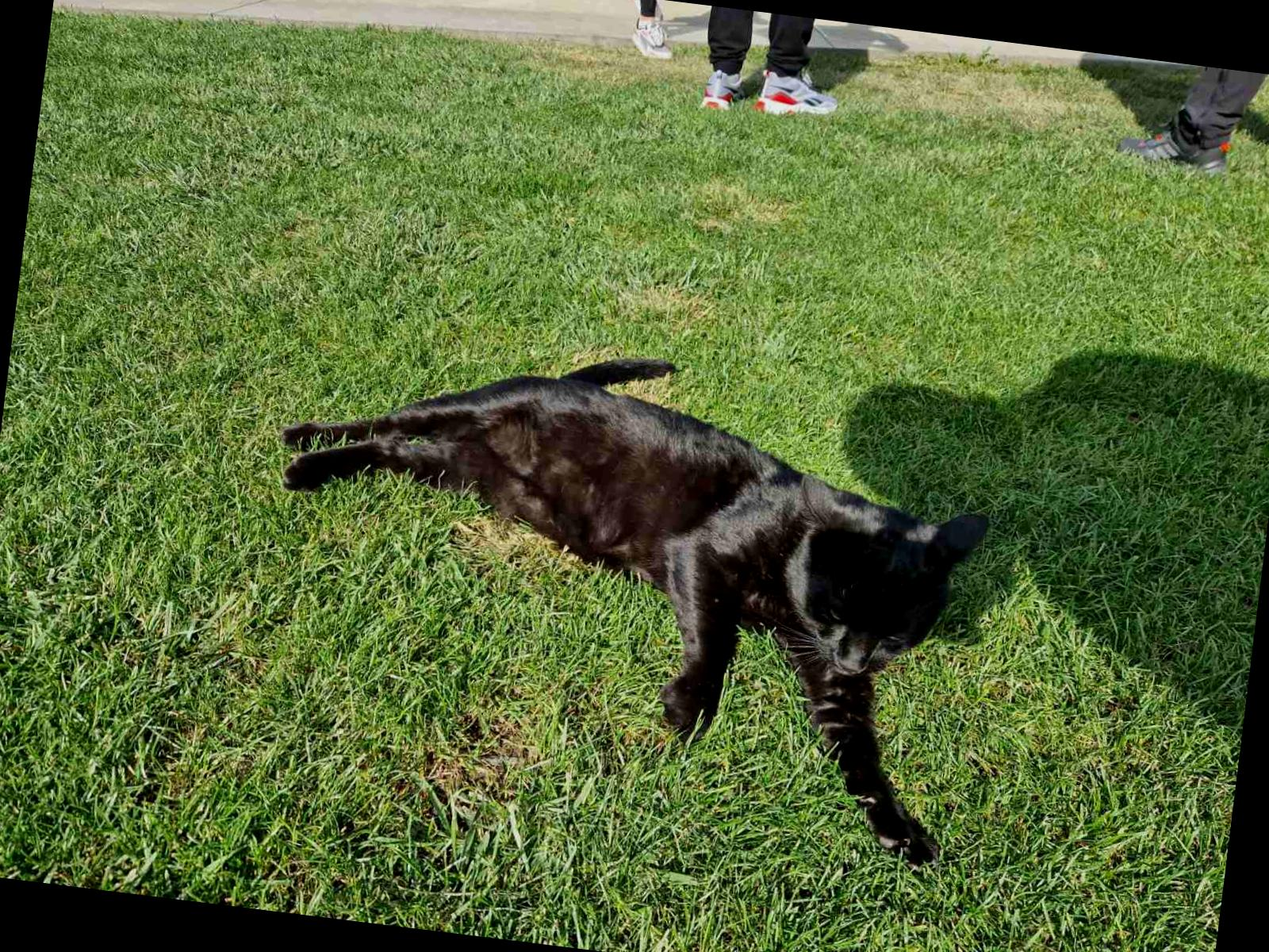macka: (245, 306, 1002, 871)
